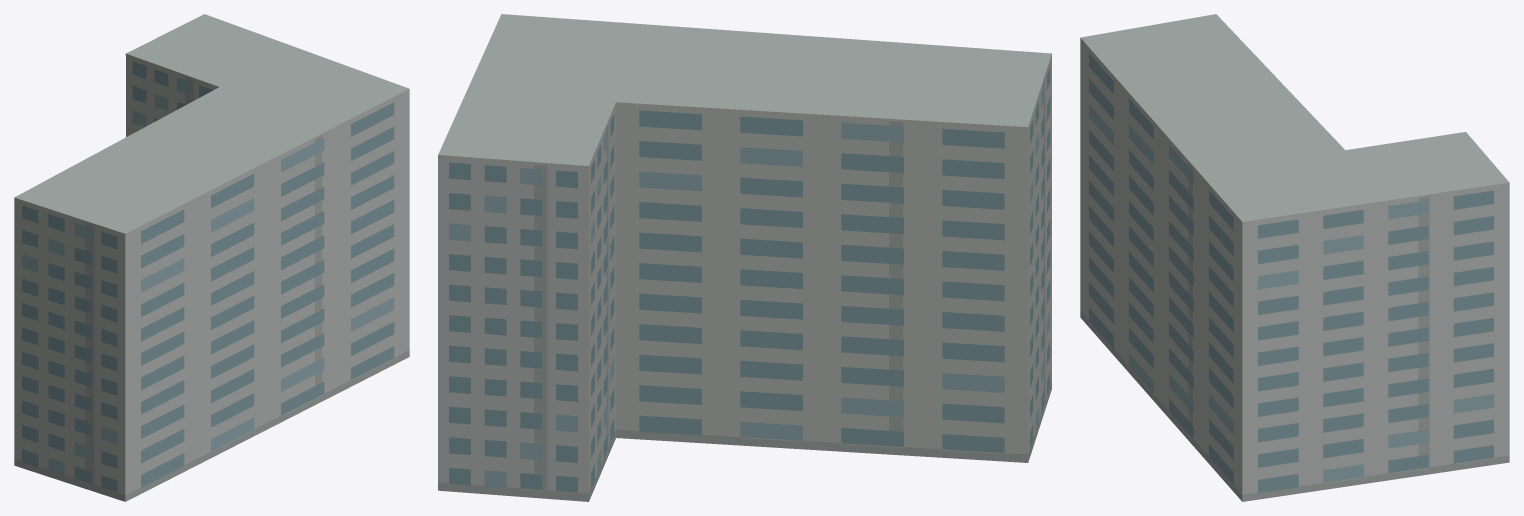
The model's file is residential-1a6d43b7-aa4c-4457-8ddd-cc3b4a17464e.glb.
3 renders of one model, left to right at view 1: azimuth 30°, elevation 25°; view 2: azimuth 150°, elevation 25°; view 3: azimuth 270°, elevation 25°, orthographic. The views are drawn at different scales.
Visible parts, largest first — view 1: residential-1a6d43b7-aa4c-4457-8ddd-cc3b4a17464e.tmp; view 2: residential-1a6d43b7-aa4c-4457-8ddd-cc3b4a17464e.tmp; view 3: residential-1a6d43b7-aa4c-4457-8ddd-cc3b4a17464e.tmp.
Boxes of the visible parts, left/top/right/bottom form: residential-1a6d43b7-aa4c-4457-8ddd-cc3b4a17464e.tmp: left=14, top=14, right=409, bottom=501; residential-1a6d43b7-aa4c-4457-8ddd-cc3b4a17464e.tmp: left=438, top=14, right=1051, bottom=501; residential-1a6d43b7-aa4c-4457-8ddd-cc3b4a17464e.tmp: left=1080, top=14, right=1509, bottom=501.
Size of the model in its own units: 49.39 by 31 by 43.08.
